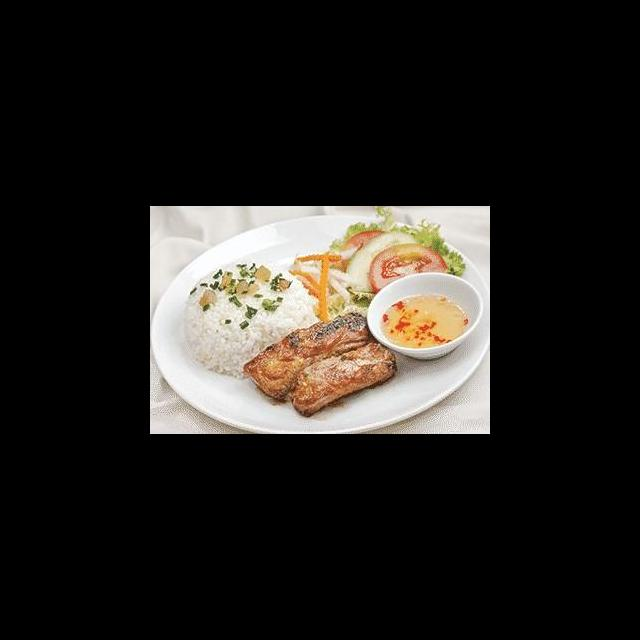com: (181, 259, 322, 378)
dua chua: (286, 249, 357, 324)
suon: (242, 311, 373, 405), (287, 341, 399, 419)
